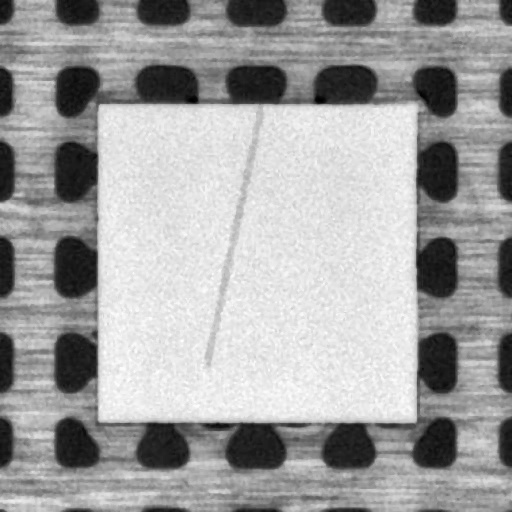DIE_CRACK: (206, 107, 260, 364)
